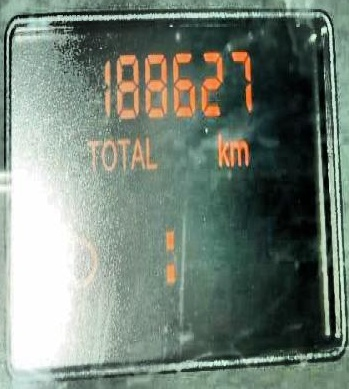1: (103, 57, 110, 117)
2: (199, 49, 223, 114)
6: (171, 49, 195, 115)
7: (230, 47, 252, 111)
8: (115, 52, 139, 120), (143, 50, 167, 117)
X: (164, 228, 175, 284), (230, 138, 249, 167), (100, 136, 116, 170), (115, 136, 130, 172), (85, 138, 100, 172), (216, 129, 229, 167), (143, 135, 157, 170), (131, 136, 145, 170)
